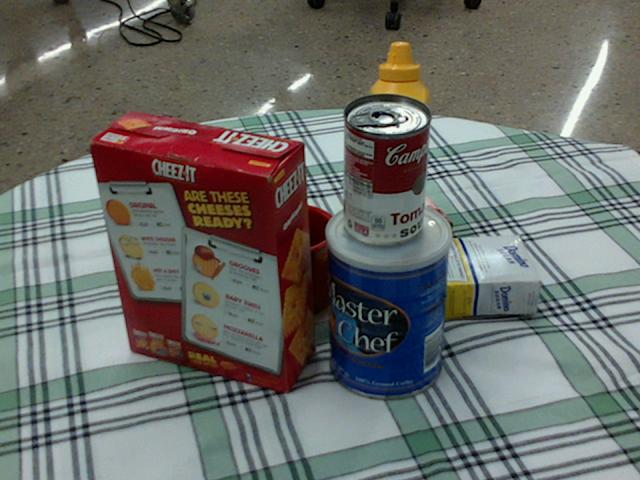cracker_box: (85, 113, 315, 390)
gelatin_box: (350, 191, 450, 259)
master_chef_can: (326, 198, 452, 399)
mug: (239, 204, 337, 319)
mustard_bottle: (368, 43, 428, 244)
potted_meat_can: (156, 214, 249, 302)
sugar_box: (349, 232, 542, 322)
tomato_soup_can: (340, 93, 429, 244)
tuna_fish_can: (164, 183, 253, 256)
